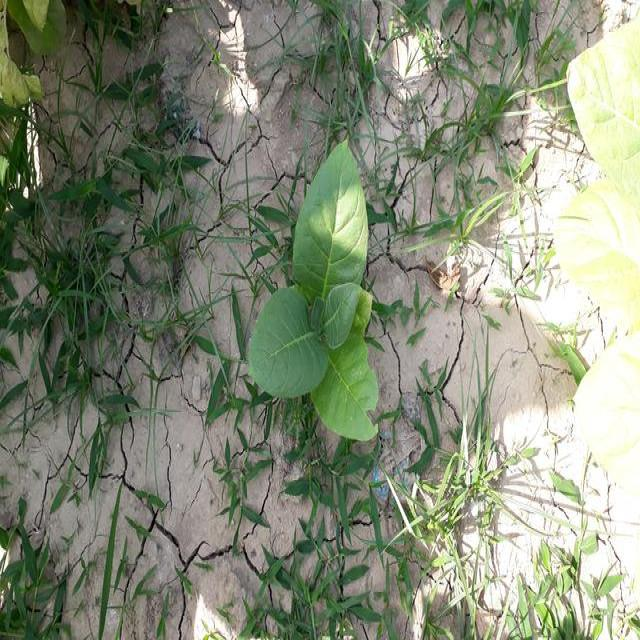crop: (238, 123, 388, 452)
